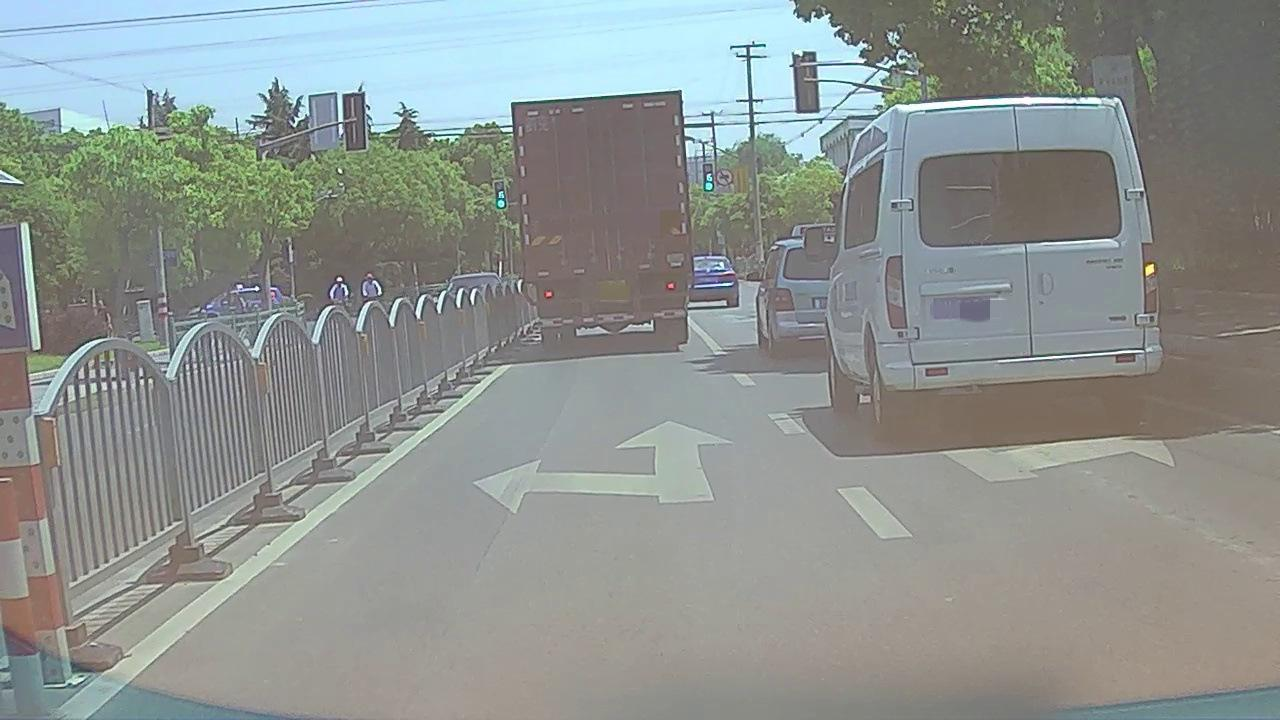traffic_light: (494, 183, 507, 210), (703, 164, 715, 192)
